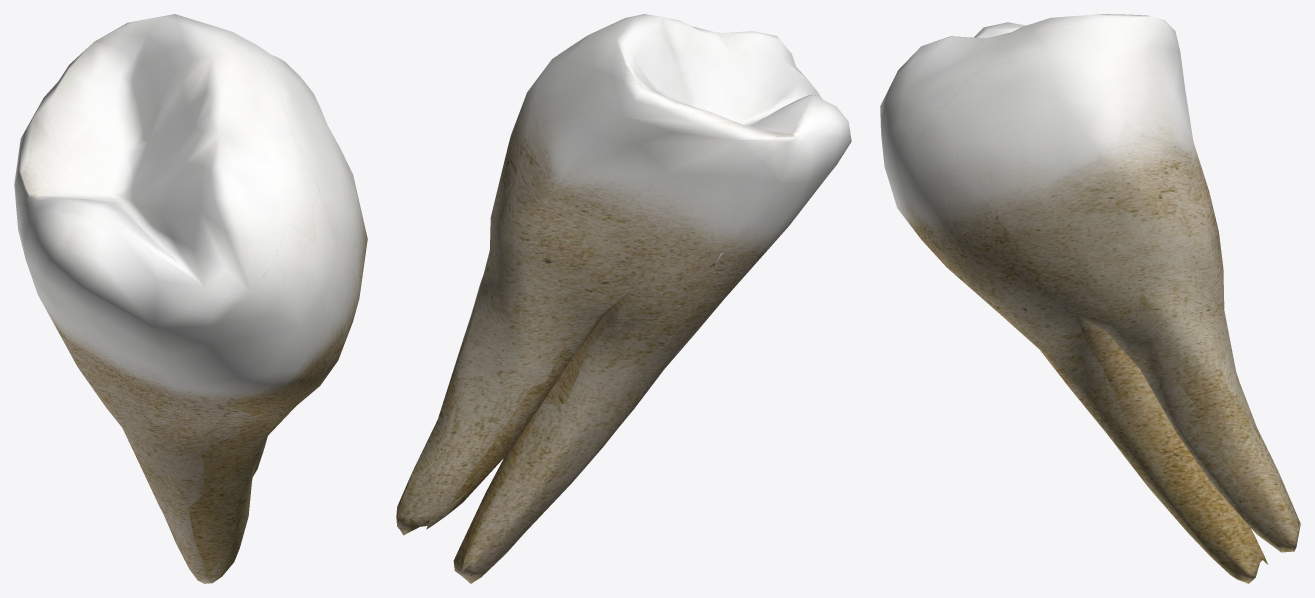
File: эрүүний агт араа.fbx
3 renders of one model, left to right at view 1: azimuth 30°, elevation 25°; view 2: azimuth 150°, elevation 25°; view 3: azimuth 270°, elevation 25°, orthographic. The views are drawn at different scales.
Visible parts, largest first — view 1: polySurface57; view 2: polySurface57; view 3: polySurface57.
Boxes of the visible parts, x1,y1,x2,y2 form: polySurface57: (14, 14, 367, 583); polySurface57: (396, 14, 851, 583); polySurface57: (880, 14, 1300, 583).
Size of the model in its own units: 4.73 by 7.74 by 5.6.
1 material, 1 textured.
